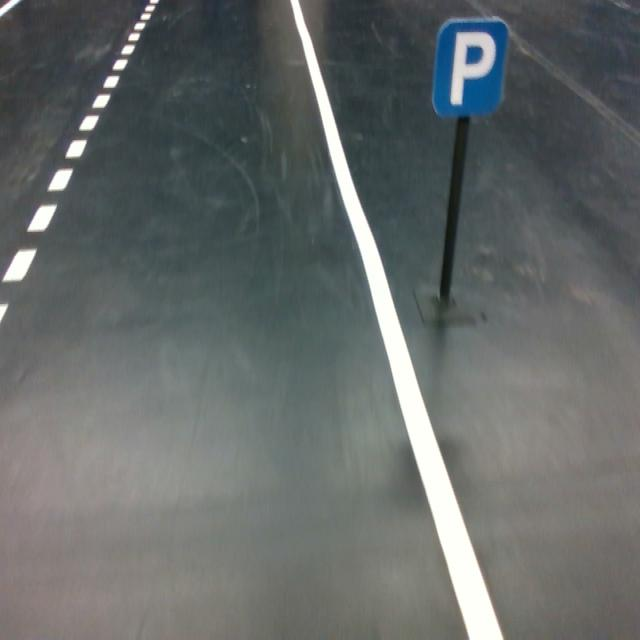parking-sign: (431, 18, 509, 120)
